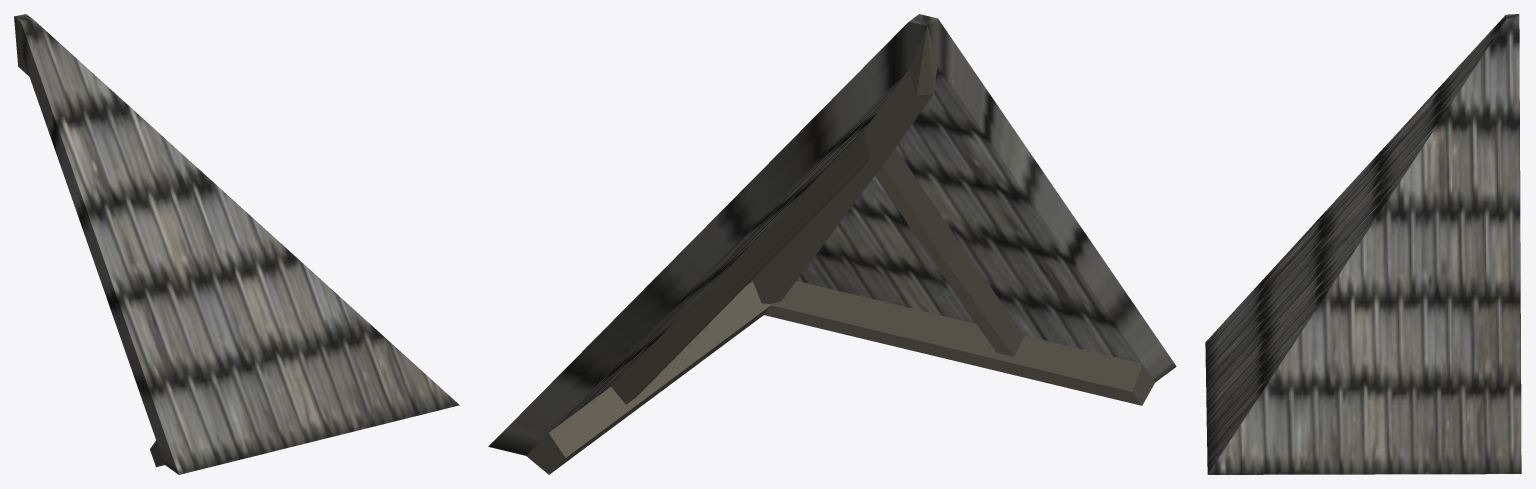
Rendered from ROOF CORNER 1.fbx.
The picture shows the model from 3 angles, left to right: view 1: azimuth 30°, elevation 25°; view 2: azimuth 150°, elevation 25°; view 3: azimuth 270°, elevation 25°; orthographic projection. The views are drawn at different scales.
Visible parts, largest first — view 1: RoofCorner1; view 2: RoofCorner1; view 3: RoofCorner1.
Part boxes in pixels (x1,y1,x2,y2): RoofCorner1: (14, 14, 459, 474); RoofCorner1: (488, 14, 1176, 474); RoofCorner1: (1205, 14, 1521, 474).
Size of the model in its own units: 263 by 308 by 263.
